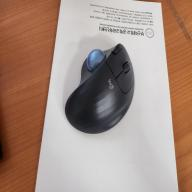mouse: (57, 27, 144, 141)
